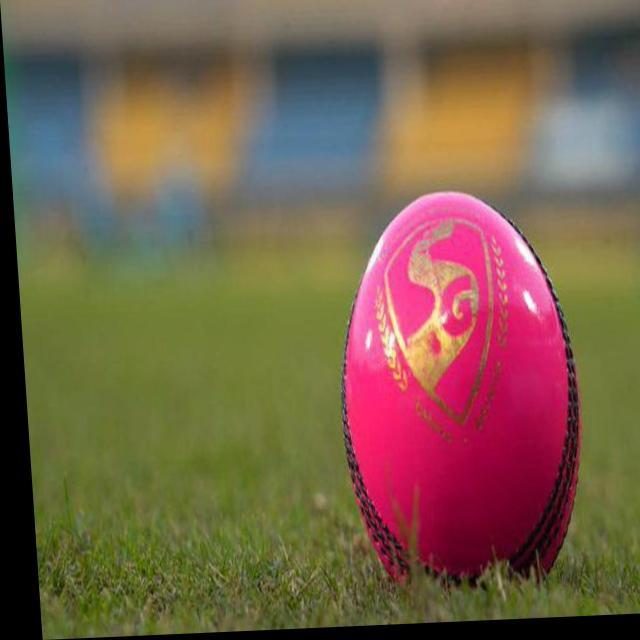cricket ball: (335, 195, 575, 593)
